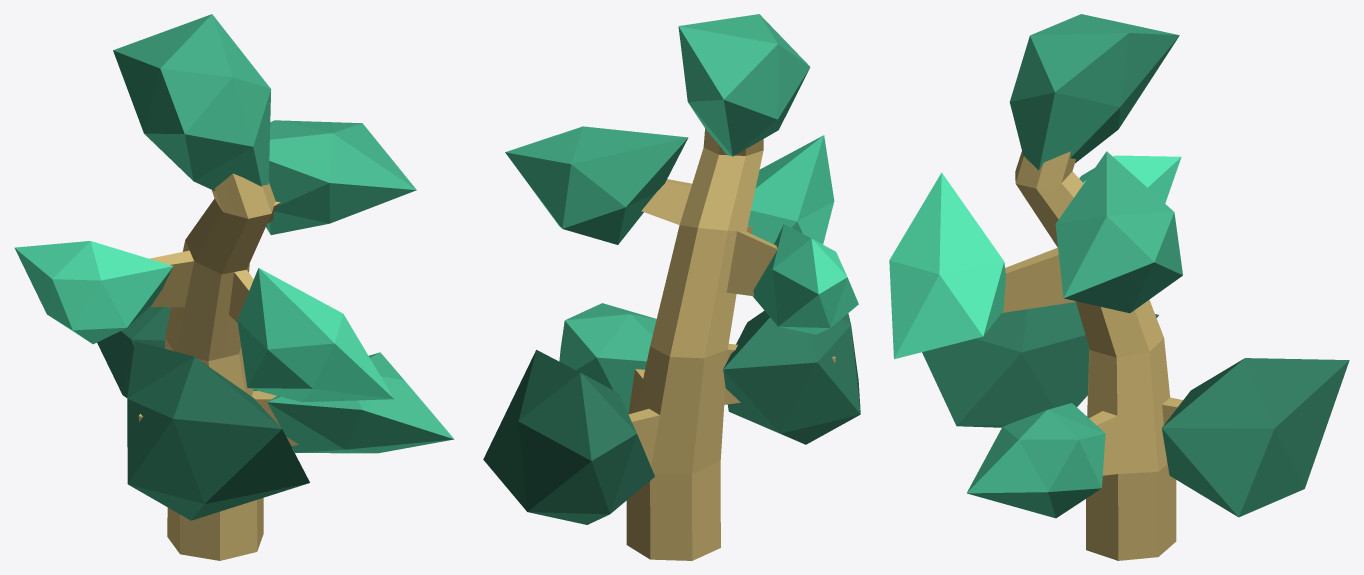
The model's file is tree 3.fbx.
3 views of the same model, side by side, from view 1: azimuth 30°, elevation 25°; view 2: azimuth 150°, elevation 25°; view 3: azimuth 270°, elevation 25° (orthographic). The views are drawn at different scales.
Parts seen in each view (by area): view 1: tree 3; view 2: tree 3; view 3: tree 3.
Boxes of the visible parts, bbox=[...] form: tree 3: bbox=[14, 14, 454, 560]; tree 3: bbox=[483, 14, 860, 560]; tree 3: bbox=[889, 14, 1349, 560].
Size of the model in its own units: 797 by 1176 by 969.
